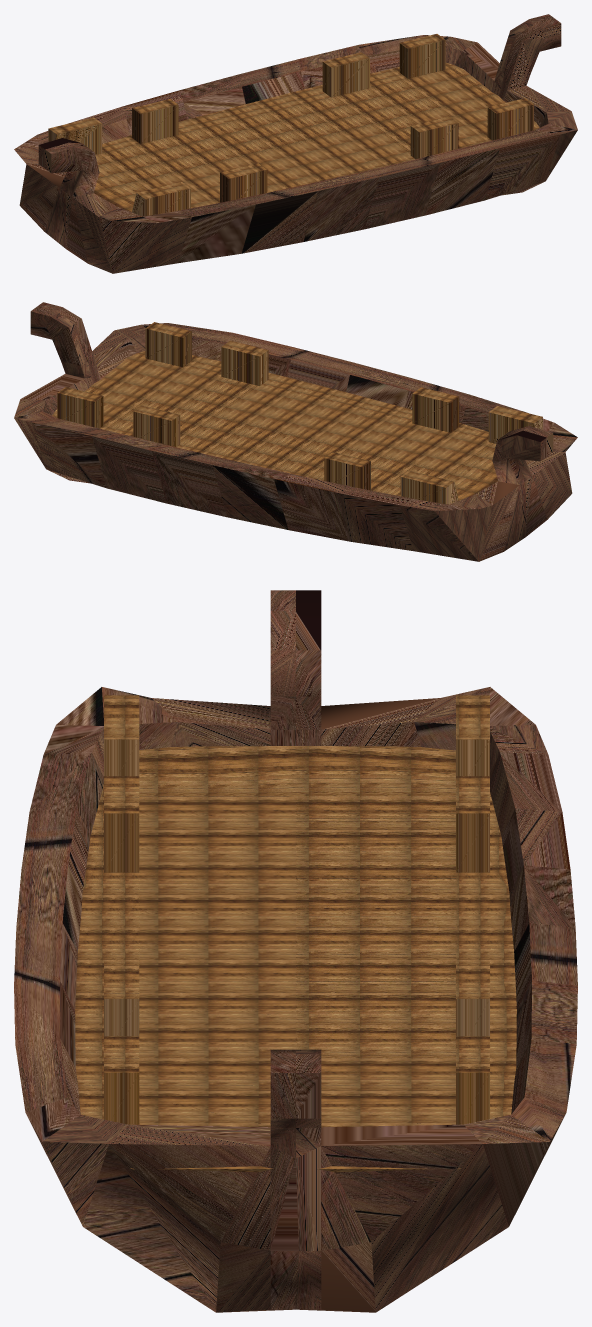
The model's file is Ship.fbx.
The picture shows the model from 3 angles, top to bottom: view 1: azimuth 30°, elevation 25°; view 2: azimuth 150°, elevation 25°; view 3: azimuth 270°, elevation 25°; orthographic projection. The views are drawn at different scales.
Parts seen in each view (by area): view 1: Ship3, deck; view 2: Ship3, deck; view 3: deck, Ship3.
Part boxes in pixels (x1,y1,x2,y2): Ship3: (14, 14, 577, 273); deck: (48, 34, 539, 216); Ship3: (14, 302, 577, 561); deck: (52, 322, 542, 504); deck: (75, 695, 516, 1172); Ship3: (14, 590, 577, 1312).
Size of the model in its own units: 2192 by 622 by 1054.
2 materials, 2 textured.
